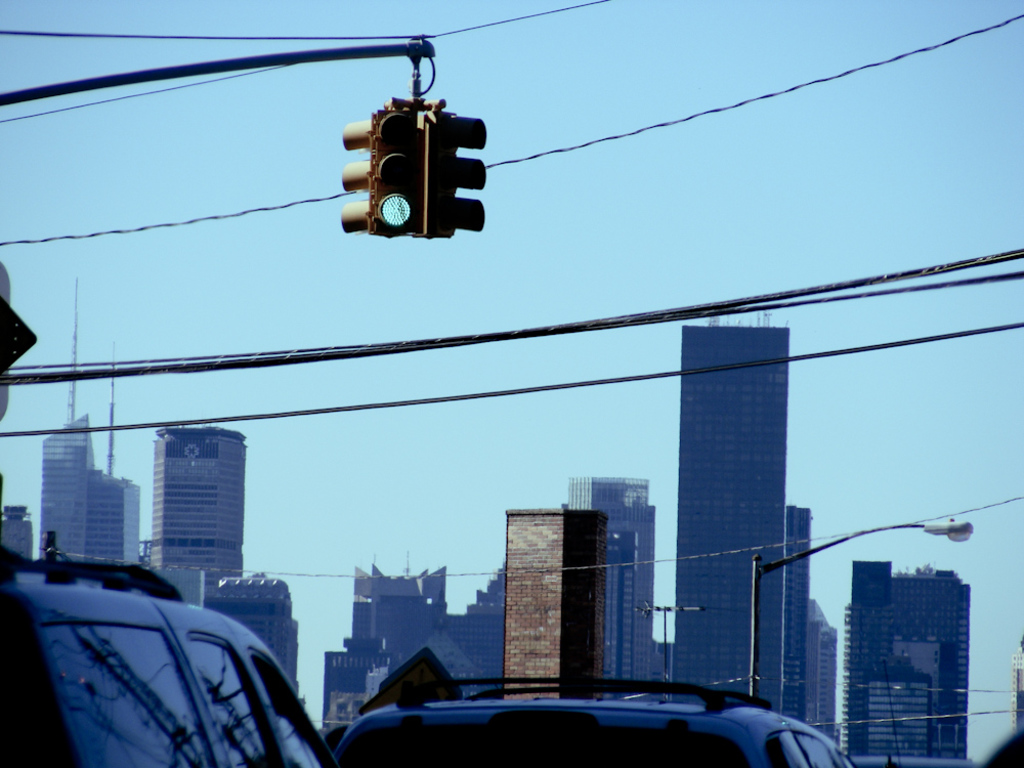green_light: (375, 113, 417, 234)
